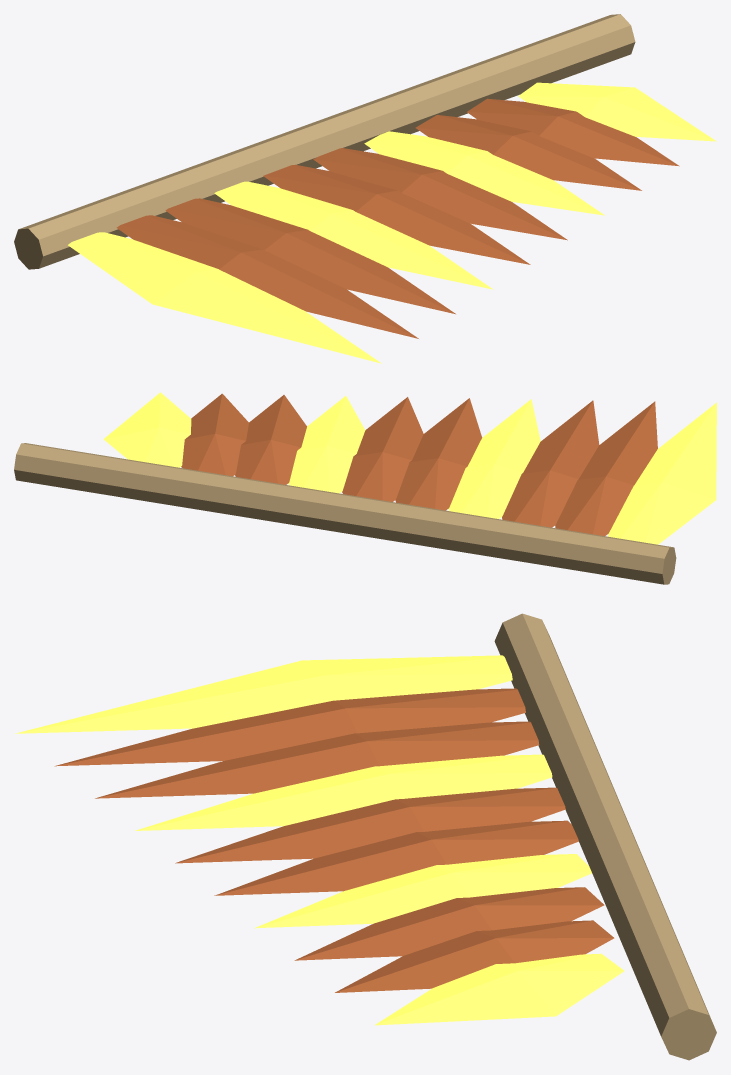
The model's file is wing_r_lod0.glb.
The picture shows the model from 3 angles, top to bottom: view 1: azimuth 30°, elevation 25°; view 2: azimuth 150°, elevation 25°; view 3: azimuth 270°, elevation 25°; orthographic projection. The views are drawn at different scales.
Parts seen in each view (by area): view 1: phoenix_wing_r_LOD0; view 2: phoenix_wing_r_LOD0; view 3: phoenix_wing_r_LOD0.
Boxes of the visible parts, x1=… form: phoenix_wing_r_LOD0: x1=14, y1=14, x2=716, y2=363; phoenix_wing_r_LOD0: x1=14, y1=392, x2=716, y2=584; phoenix_wing_r_LOD0: x1=14, y1=613, x2=716, y2=1060.
Size of the model in its own units: 5.76 by 0.38 by 4.22.
